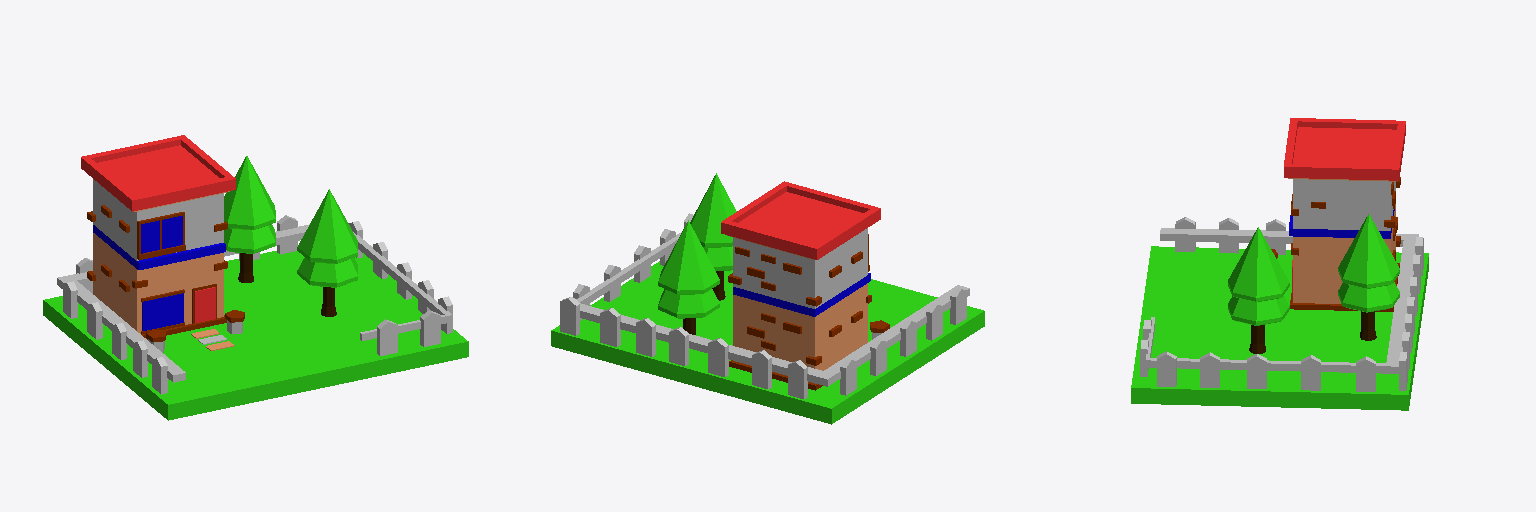
File: low_poly_house.obj
The picture shows the model from 3 angles: view 1: azimuth 30°, elevation 25°; view 2: azimuth 150°, elevation 25°; view 3: azimuth 270°, elevation 25°; orthographic projection.
Visible parts, largest first — view 1: green, white, reddish, light_brown, blue, brown; view 2: green, white, reddish, light_brown, brown, blue; view 3: green, white, reddish, light_brown, brown, blue.
Boxes of the visible parts, box(x1,y1,x2,y2) form: green: box(43, 156, 468, 420); white: box(57, 179, 452, 394); reddish: box(81, 135, 235, 322); light_brown: box(93, 191, 234, 350); blue: box(93, 216, 225, 330); brown: box(87, 205, 336, 341); green: box(551, 173, 984, 424); white: box(560, 213, 969, 398); reddish: box(721, 181, 880, 259); light_brown: box(727, 235, 867, 383); brown: box(683, 234, 889, 390); blue: box(733, 273, 870, 316); green: box(1131, 214, 1428, 410); white: box(1140, 179, 1423, 391); reddish: box(1284, 118, 1405, 297); light_brown: box(1288, 178, 1395, 303); brown: box(1249, 177, 1400, 353); blue: box(1289, 209, 1394, 238).
Size of the model in its own units: 6.55 by 3.3 by 5.55.